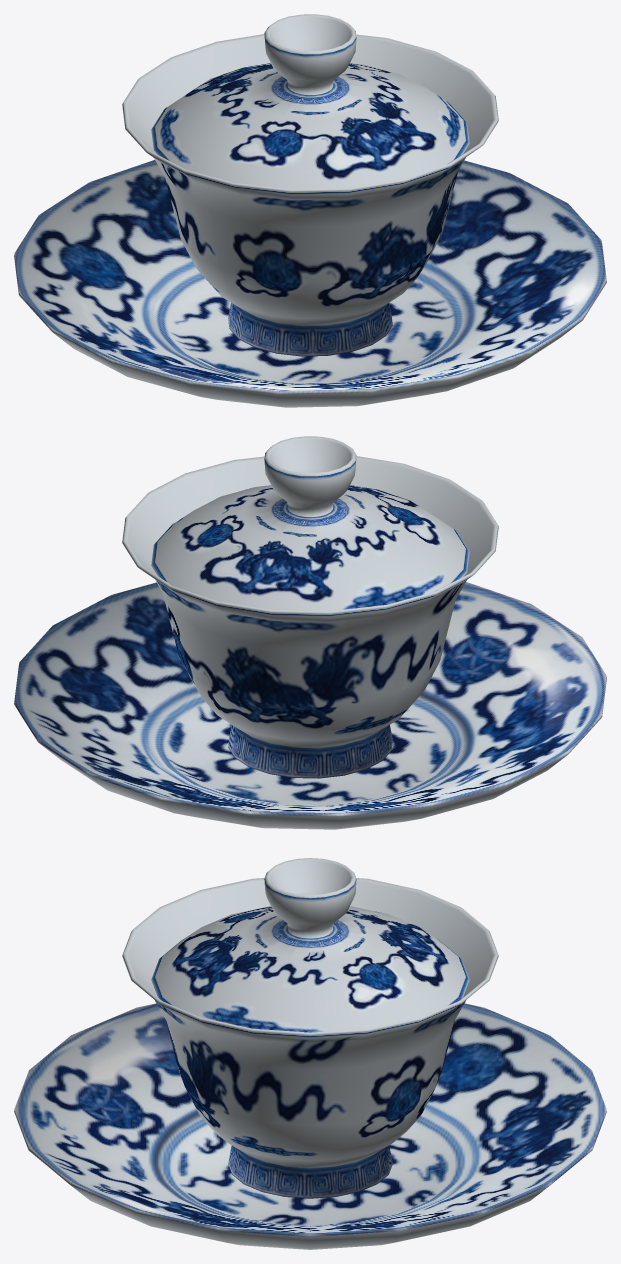
File: wan09.FBX
3 views of the same model, one above another, from view 1: azimuth 30°, elevation 25°; view 2: azimuth 150°, elevation 25°; view 3: azimuth 270°, elevation 25° (orthographic).
Visible parts, largest first — view 1: pCylinder3, pCylinder1, pCylinder2; view 2: pCylinder3, pCylinder1, pCylinder2; view 3: pCylinder3, pCylinder1, pCylinder2.
Part boxes in pixels (x1,y1,x2,y2): pCylinder3: (14,160,606,407); pCylinder1: (122,34,498,356); pCylinder2: (151,14,469,189); pCylinder3: (14,582,606,829); pCylinder1: (122,456,498,778); pCylinder2: (151,436,469,611); pCylinder3: (14,1003,606,1249); pCylinder1: (122,878,498,1198); pCylinder2: (151,858,469,1032).
Size of the model in its own units: 172 by 97.85 by 172.
